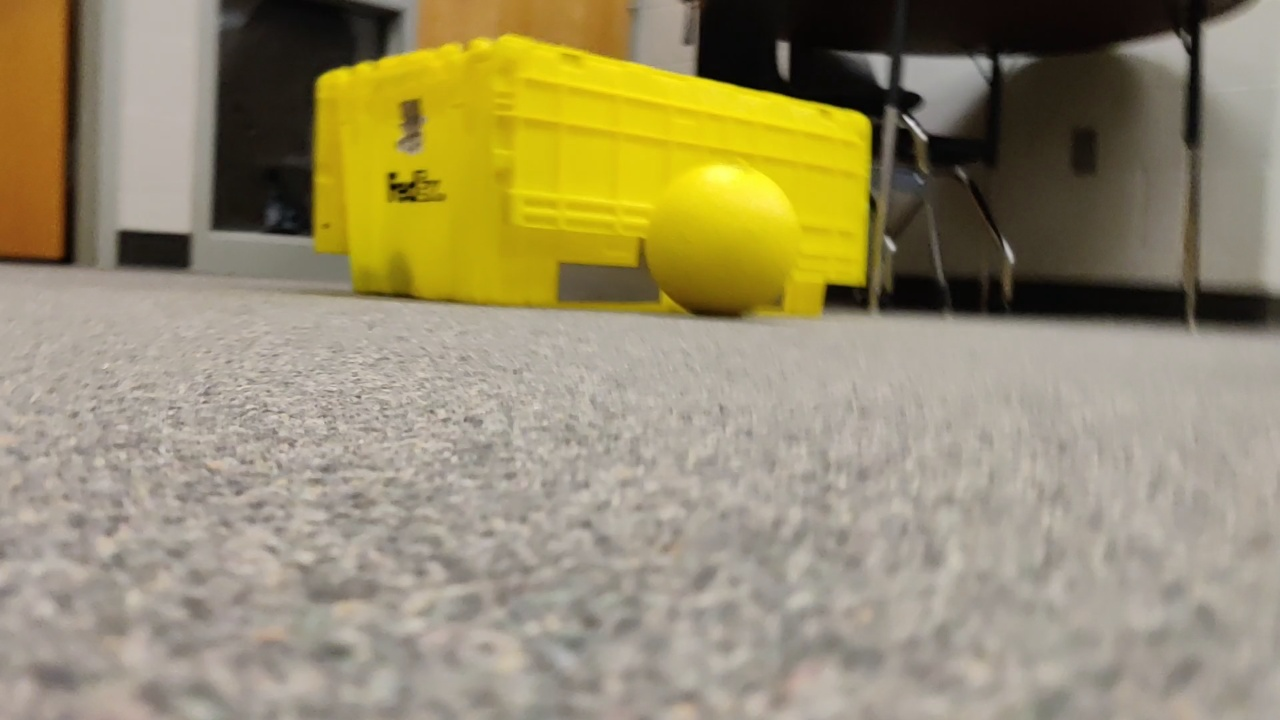Ball: (649, 164, 796, 320)
